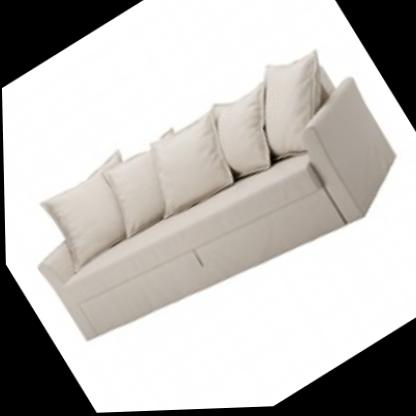Sofa: (0, 6, 416, 391)
